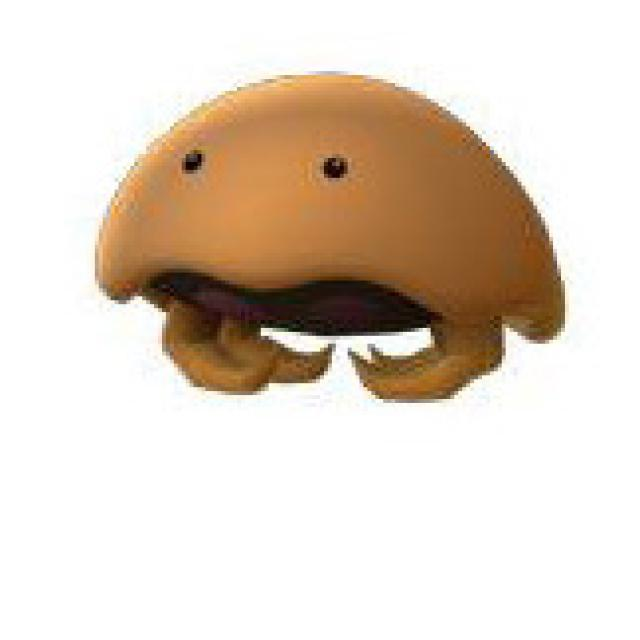Kabuto: (92, 69, 569, 398)
